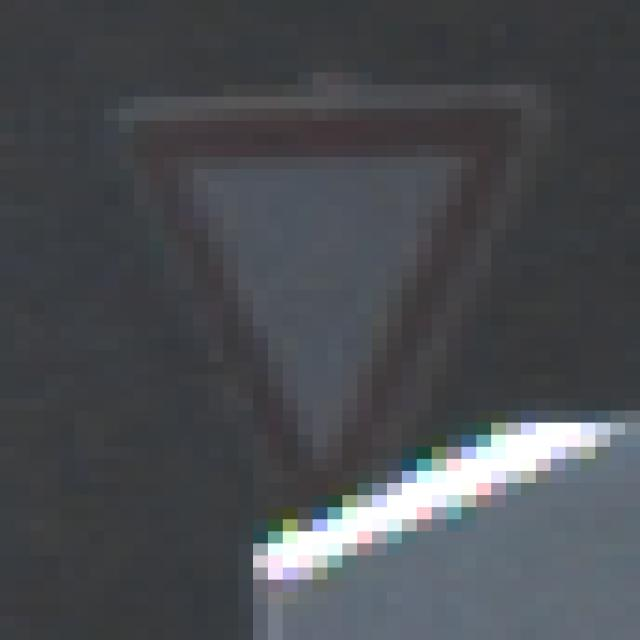Give Way: (90, 74, 567, 569)
